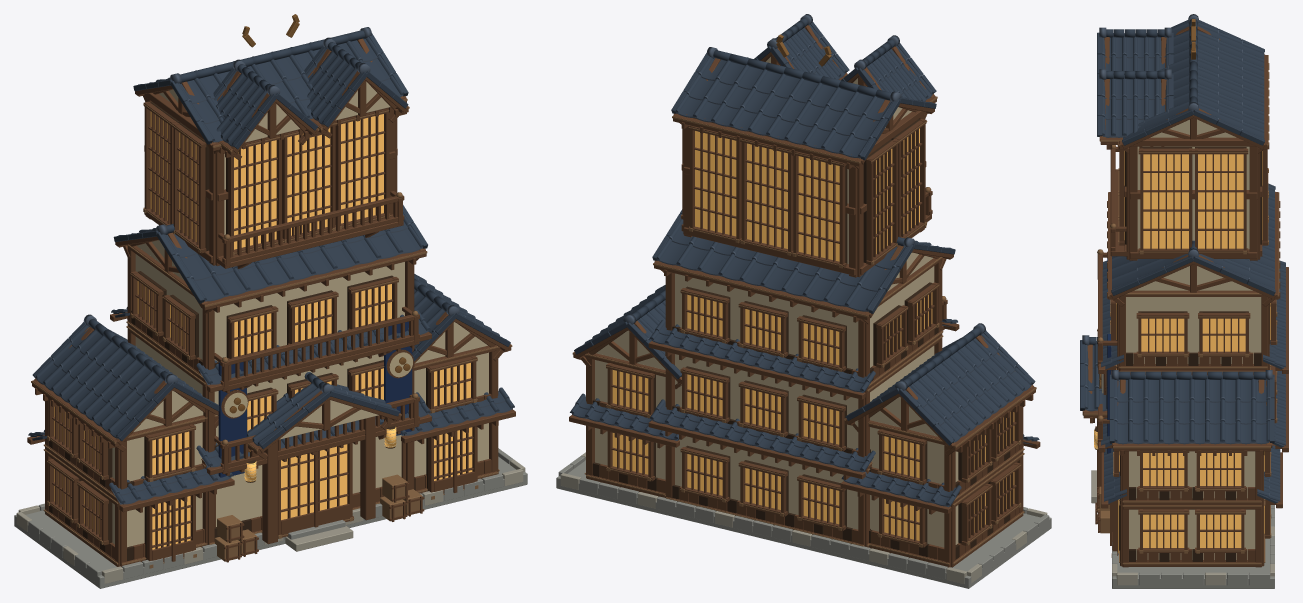
The picture shows the model from 3 angles, left to right: view 1: azimuth 30°, elevation 25°; view 2: azimuth 150°, elevation 25°; view 3: azimuth 270°, elevation 25°; orthographic projection. The views are drawn at different scales.
Parts seen in each view (by area): view 1: compact_finance_3_geometry; view 2: compact_finance_3_geometry; view 3: compact_finance_3_geometry.
Boxes of the visible parts, x1,y1,x2,y2 form: compact_finance_3_geometry: (14, 14, 527, 588); compact_finance_3_geometry: (556, 14, 1051, 588); compact_finance_3_geometry: (1080, 14, 1288, 588).
Size of the model in its own units: 2.29 by 2.48 by 1.02.
